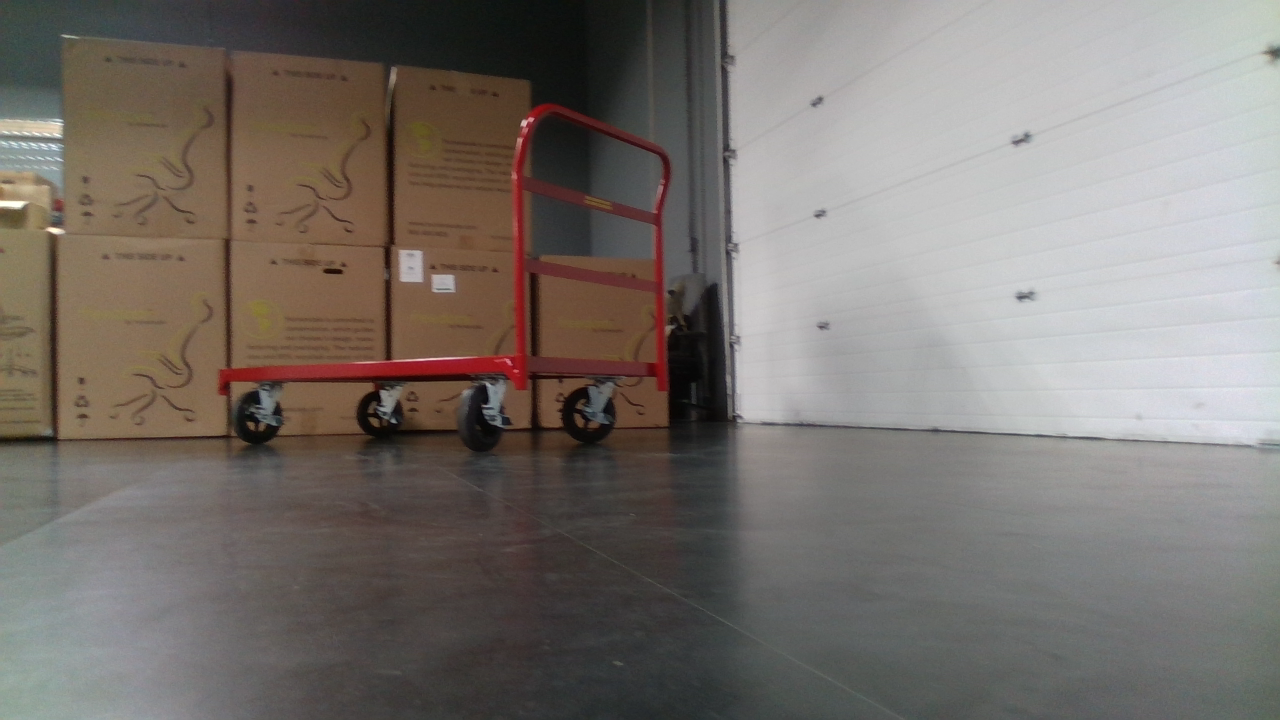Dolly: (215, 101, 674, 448)
Wheel: (560, 387, 617, 443), (459, 384, 502, 452), (232, 389, 282, 444), (356, 392, 405, 441)
